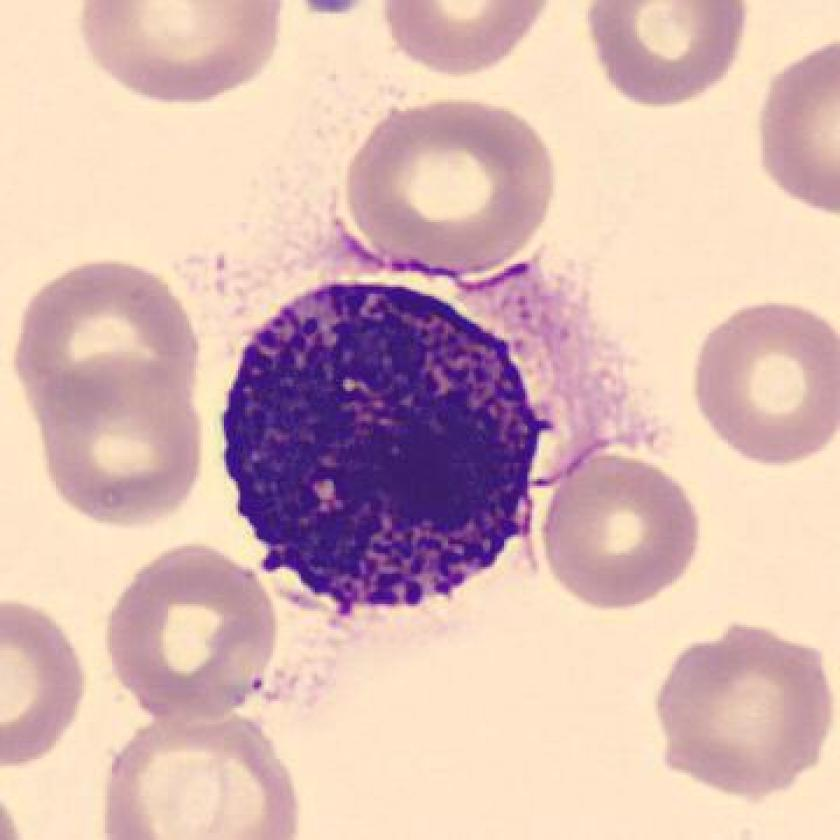basophil: (204, 269, 552, 626)
